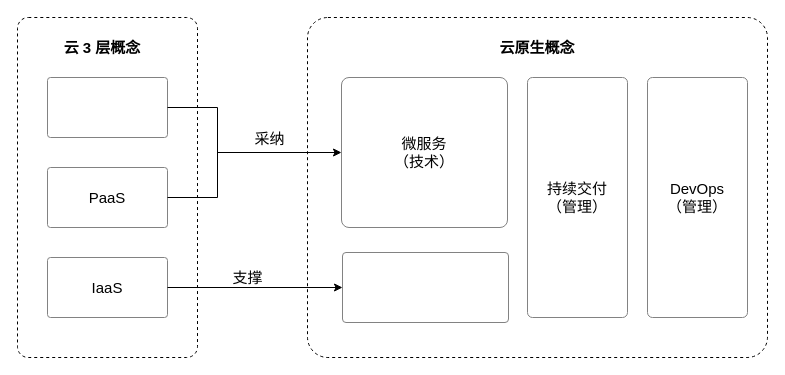
Some shapes in this 785 by 375 pixel diagram are drawn without their labels. Here are the shapes that lost their labels. From the top down, the centre of each, then its label:
At (x=107, y=107): "SaaS".
At (x=425, y=287): "敏捷基础设施 （技术）".
